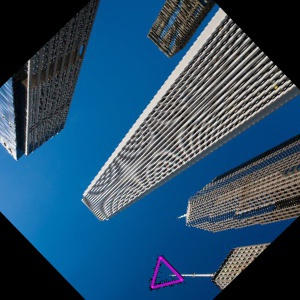triangle: (148, 253, 185, 292)
